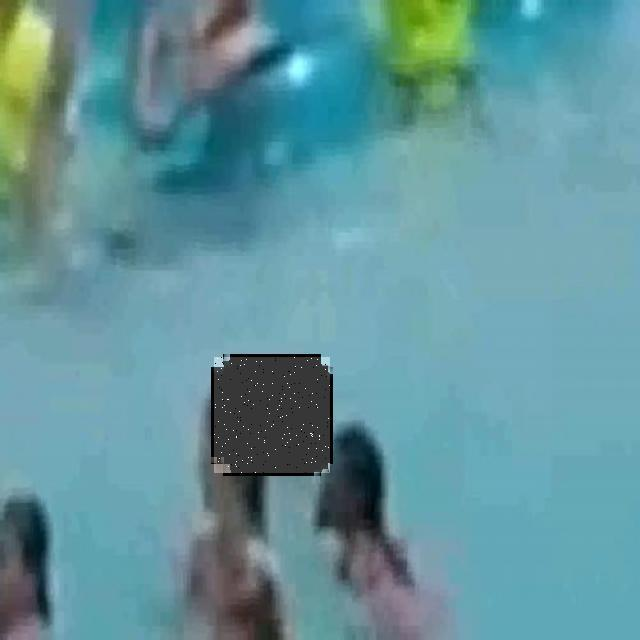Out of Water: (214, 357, 330, 473)
